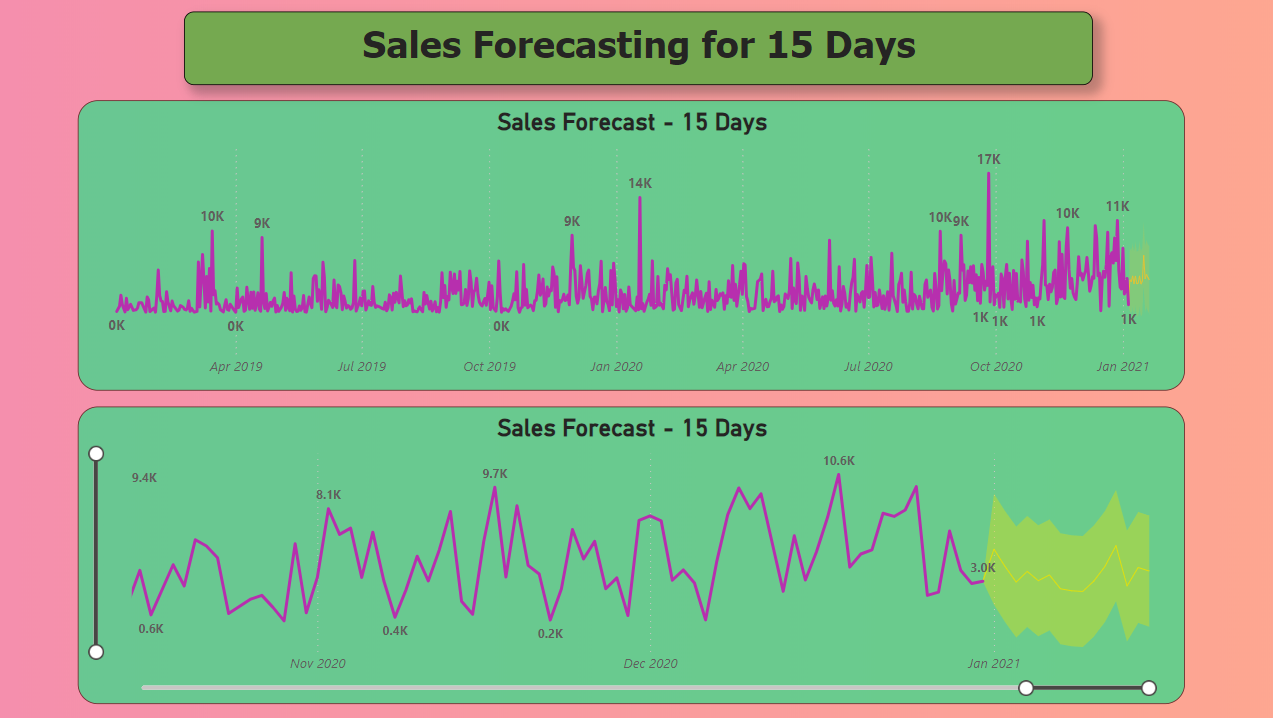

This screenshot's page, from the dashboard's own definition file:
{"tool":"powerbi","page":{"name":"Forecasting","canvas":[1280,720],"ordinal":1},"visuals":[{"type":"lineChart","title":"Sales Forecast - 15 Days","fields":{"Y":["Sum(SuperStore_Sales_Dataset.Sales)"],"Category":["SuperStore_Sales_Dataset.Ship Date"]},"box":[78.8,101.2,1107.5,290],"z":0},{"type":"lineChart","title":"Sales Forecast - 15 Days","fields":{"Y":["Sum(SuperStore_Sales_Dataset.Sales)"],"Category":["SuperStore_Sales_Dataset.Order Date"]},"box":[78.8,407.5,1107.5,297.5],"z":1},{"type":"textbox","box":[185,12.5,908.8,73.8],"z":2}]}

Visuals, with their boxes in screenshot pixels (x1, y1, x2, y2), scaled from the page's 1280x720 canvas onto the 1273x718 screenshot:
"Sales Forecast - 15 Days" lineChart: x1=78, y1=101, x2=1180, y2=390
"Sales Forecast - 15 Days" lineChart: x1=78, y1=406, x2=1180, y2=703
textbox: x1=184, y1=12, x2=1088, y2=86
